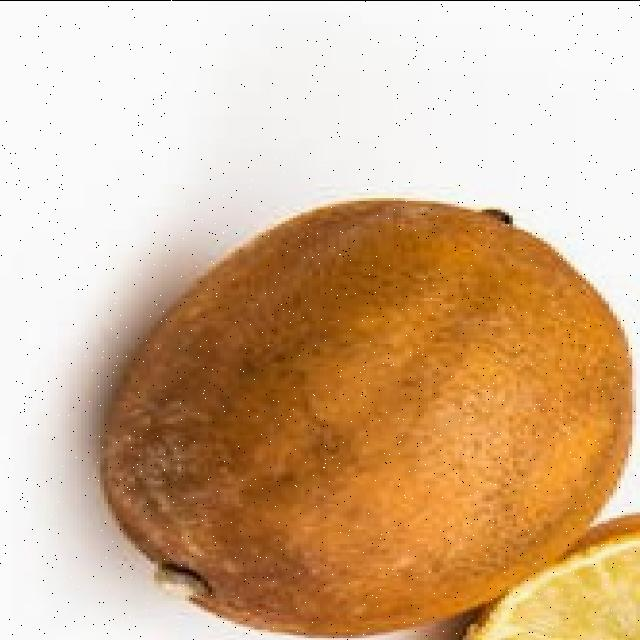overripe: (91, 193, 640, 640)
